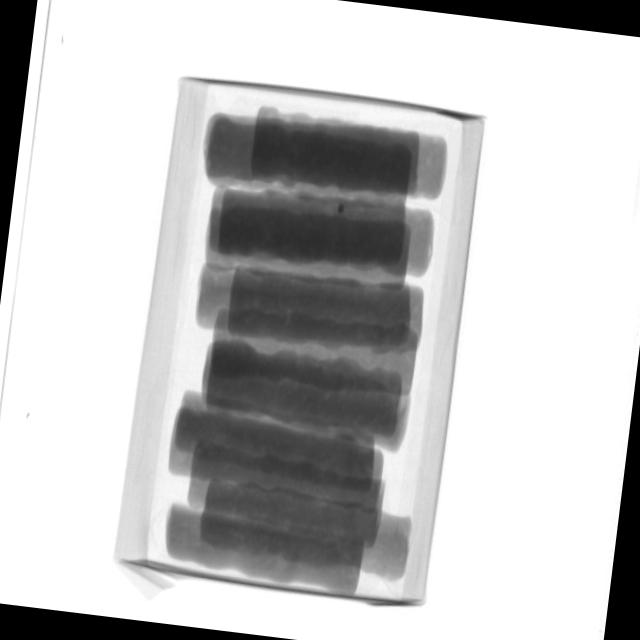ym: (337, 205, 345, 215)
